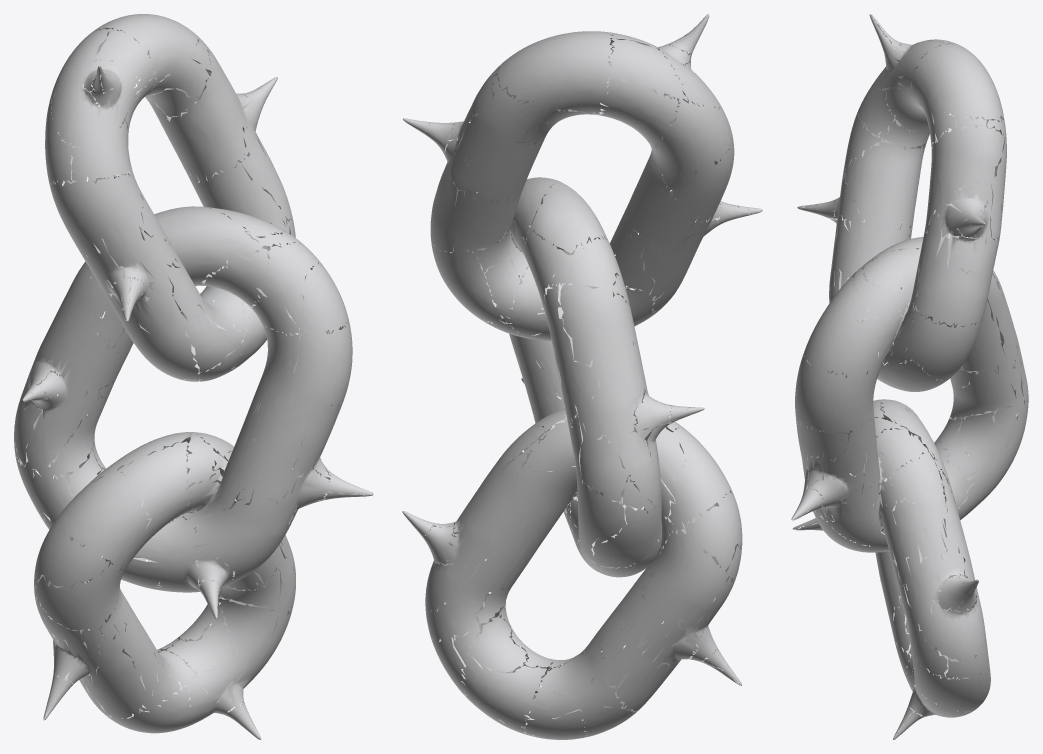
Rendered from chain.glb.
3 views of the same model, side by side, from view 1: azimuth 30°, elevation 25°; view 2: azimuth 150°, elevation 25°; view 3: azimuth 270°, elevation 25° (orthographic). The views are drawn at different scales.
Bounding box in the file's own units: 0.7963 × 1.9 × 0.6292.
Materials: 1 (1 with a texture image).
